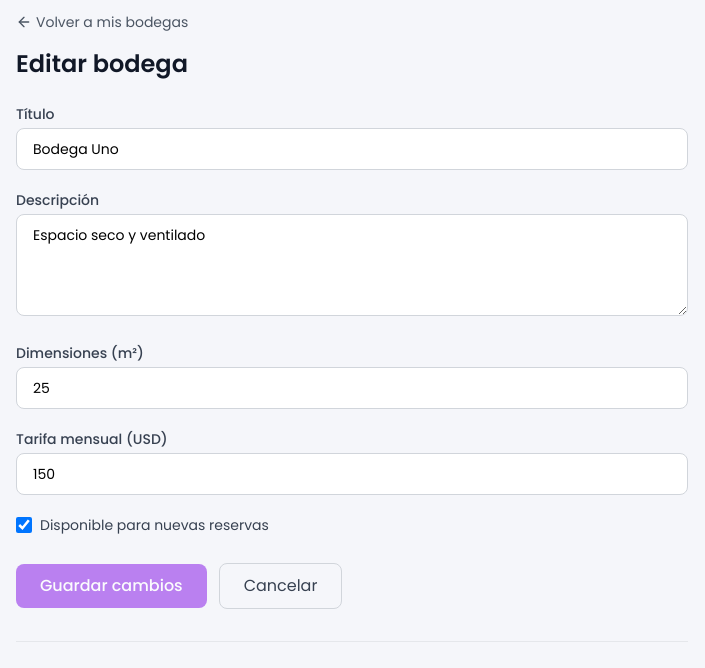
Test: EditarBodega › blocks the submit and highlights the title when it is cleared (scenario 2)
This screenshot has width=705, height=668.
Clear the field labelled "Título" at point(352, 149), box 16,128 -> 688,170
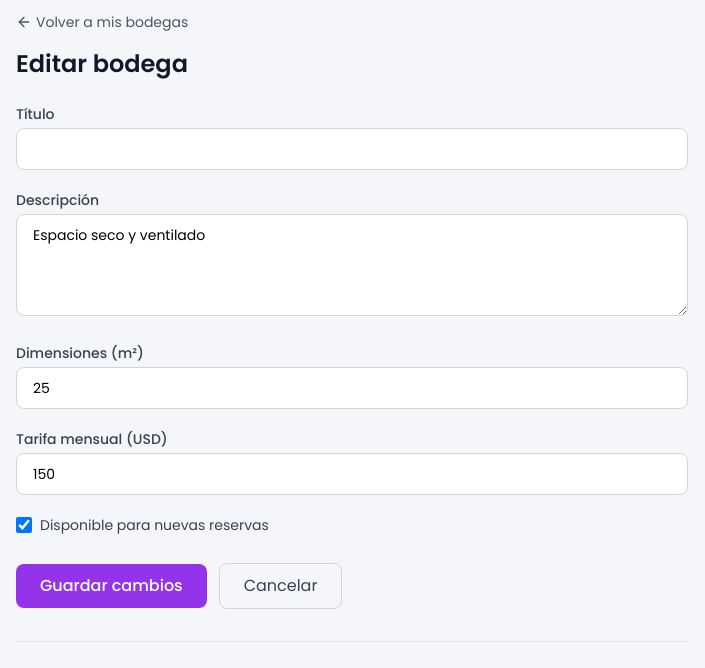
Click the button "Guardar cambios" at point(111, 586), box 16,564 -> 207,608
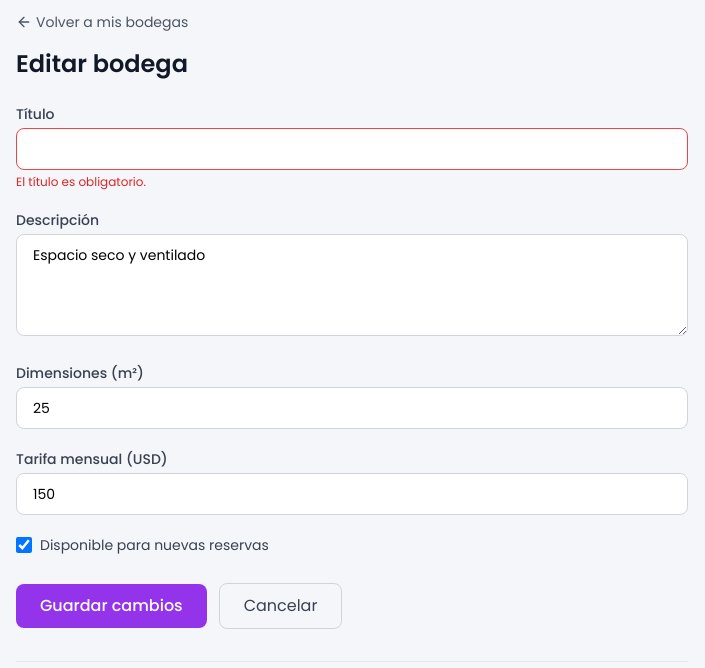
Result: the text "El título es obligatorio." is shown at 16,173 -> 146,190
